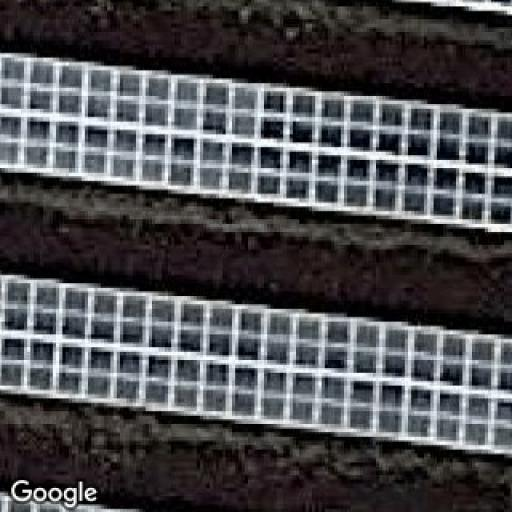solar-panel: (0, 45, 512, 238), (0, 269, 512, 461), (365, 0, 512, 30), (0, 483, 152, 512)
